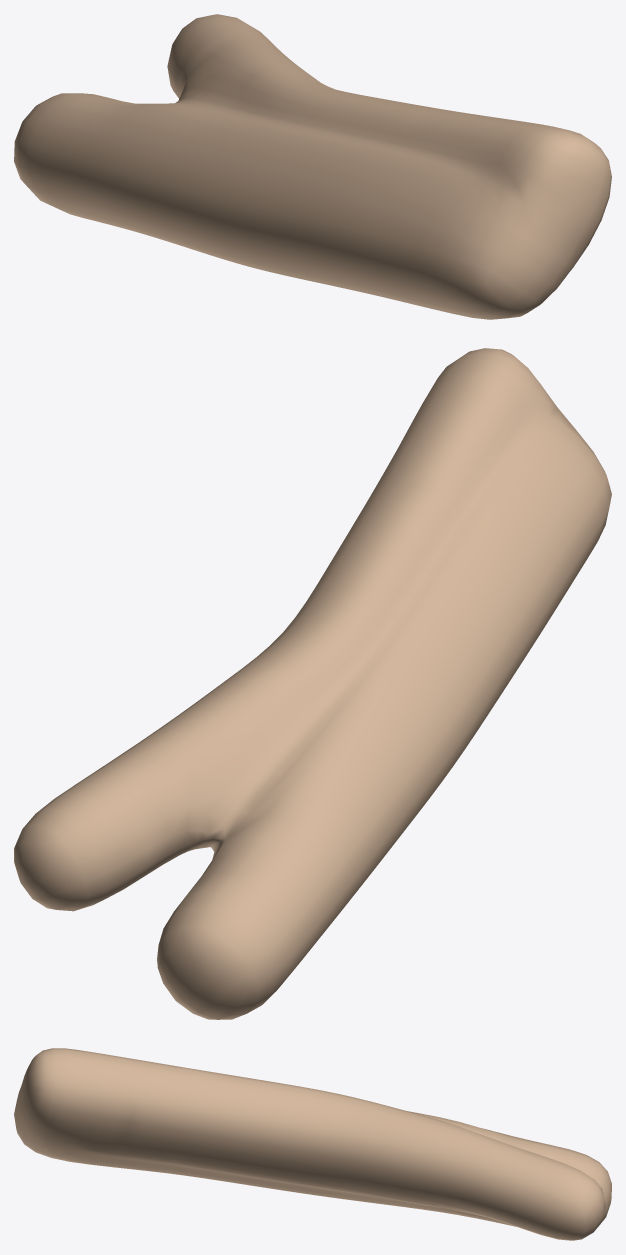
3 renders of one model, top to bottom at view 1: azimuth 30°, elevation 25°; view 2: azimuth 150°, elevation 25°; view 3: azimuth 270°, elevation 25°, orthographic. The views are drawn at different scales.
Parts seen in each view (by area): view 1: 右侧桡侧腕伸肌腱鞘; view 2: 右侧桡侧腕伸肌腱鞘; view 3: 右侧桡侧腕伸肌腱鞘.
Boxes of the visible parts, x1=… form: 右侧桡侧腕伸肌腱鞘: x1=14, y1=14, x2=611, y2=319; 右侧桡侧腕伸肌腱鞘: x1=14, y1=348, x2=611, y2=1019; 右侧桡侧腕伸肌腱鞘: x1=14, y1=1048, x2=611, y2=1240.
Bounding box in the file's own units: 0.0156 × 0.0195 × 0.0477.
